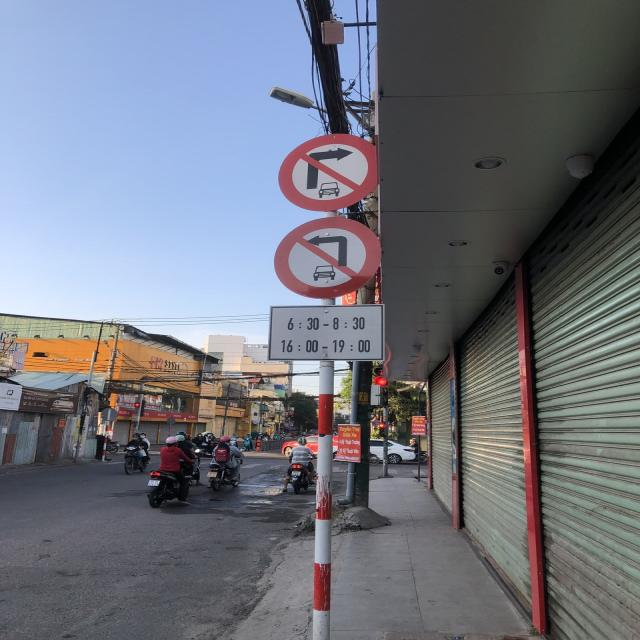Bien bao cam xe o to re phai: (276, 124, 390, 212)
Bien bao cam xe o to re trai: (264, 215, 390, 302)
